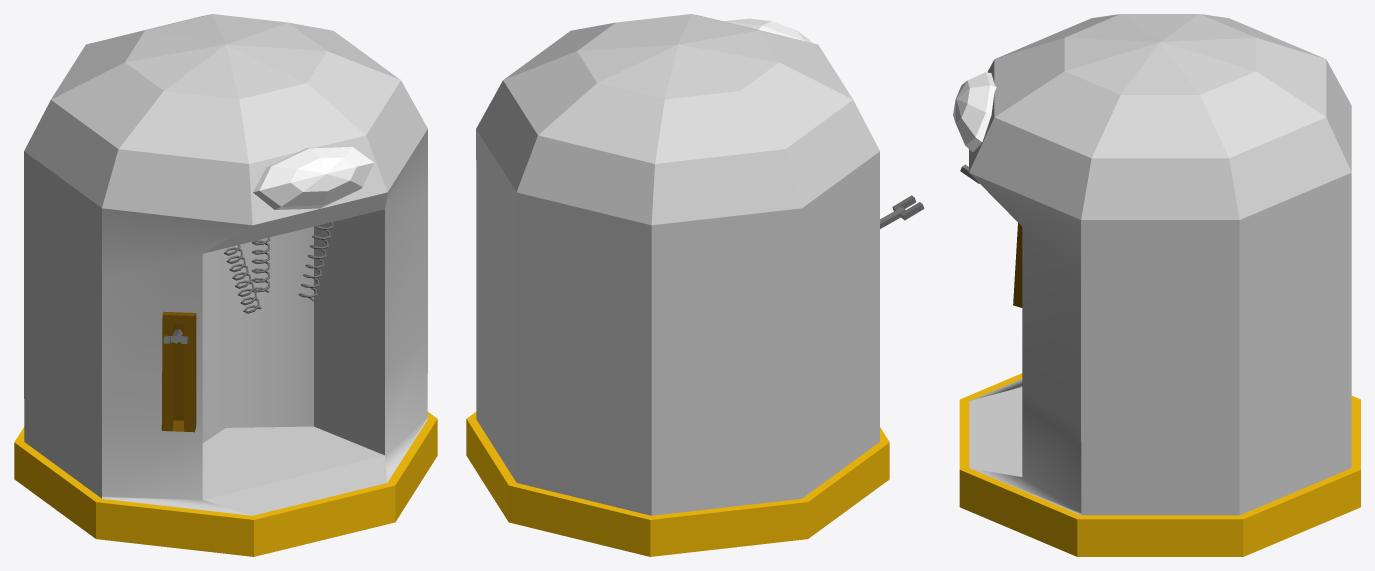
Rendered from BatteryCase.fbx.
The picture shows the model from 3 angles, left to right: view 1: azimuth 30°, elevation 25°; view 2: azimuth 150°, elevation 25°; view 3: azimuth 270°, elevation 25°; orthographic projection.
Visible parts, largest first — view 1: pCylinder6, Indicator, pCube10, pHelix1; view 2: pCylinder6, Indicator, Handle; view 3: pCylinder6, Indicator, pCube10.
Part boxes in pixels (x1,y1,x2,y2): pCylinder6: (14,14,437,556); Indicator: (253,146,373,209); pCube10: (161,311,196,432); pHelix1: (224,222,333,313); pCylinder6: (466,14,889,556); Indicator: (723,18,811,42); Handle: (880,195,924,228); pCylinder6: (959,14,1360,556); Indicator: (953,72,996,151); pCube10: (1013,223,1022,307).
Size of the model in its own units: 11.66 by 13.8 by 11.86.
